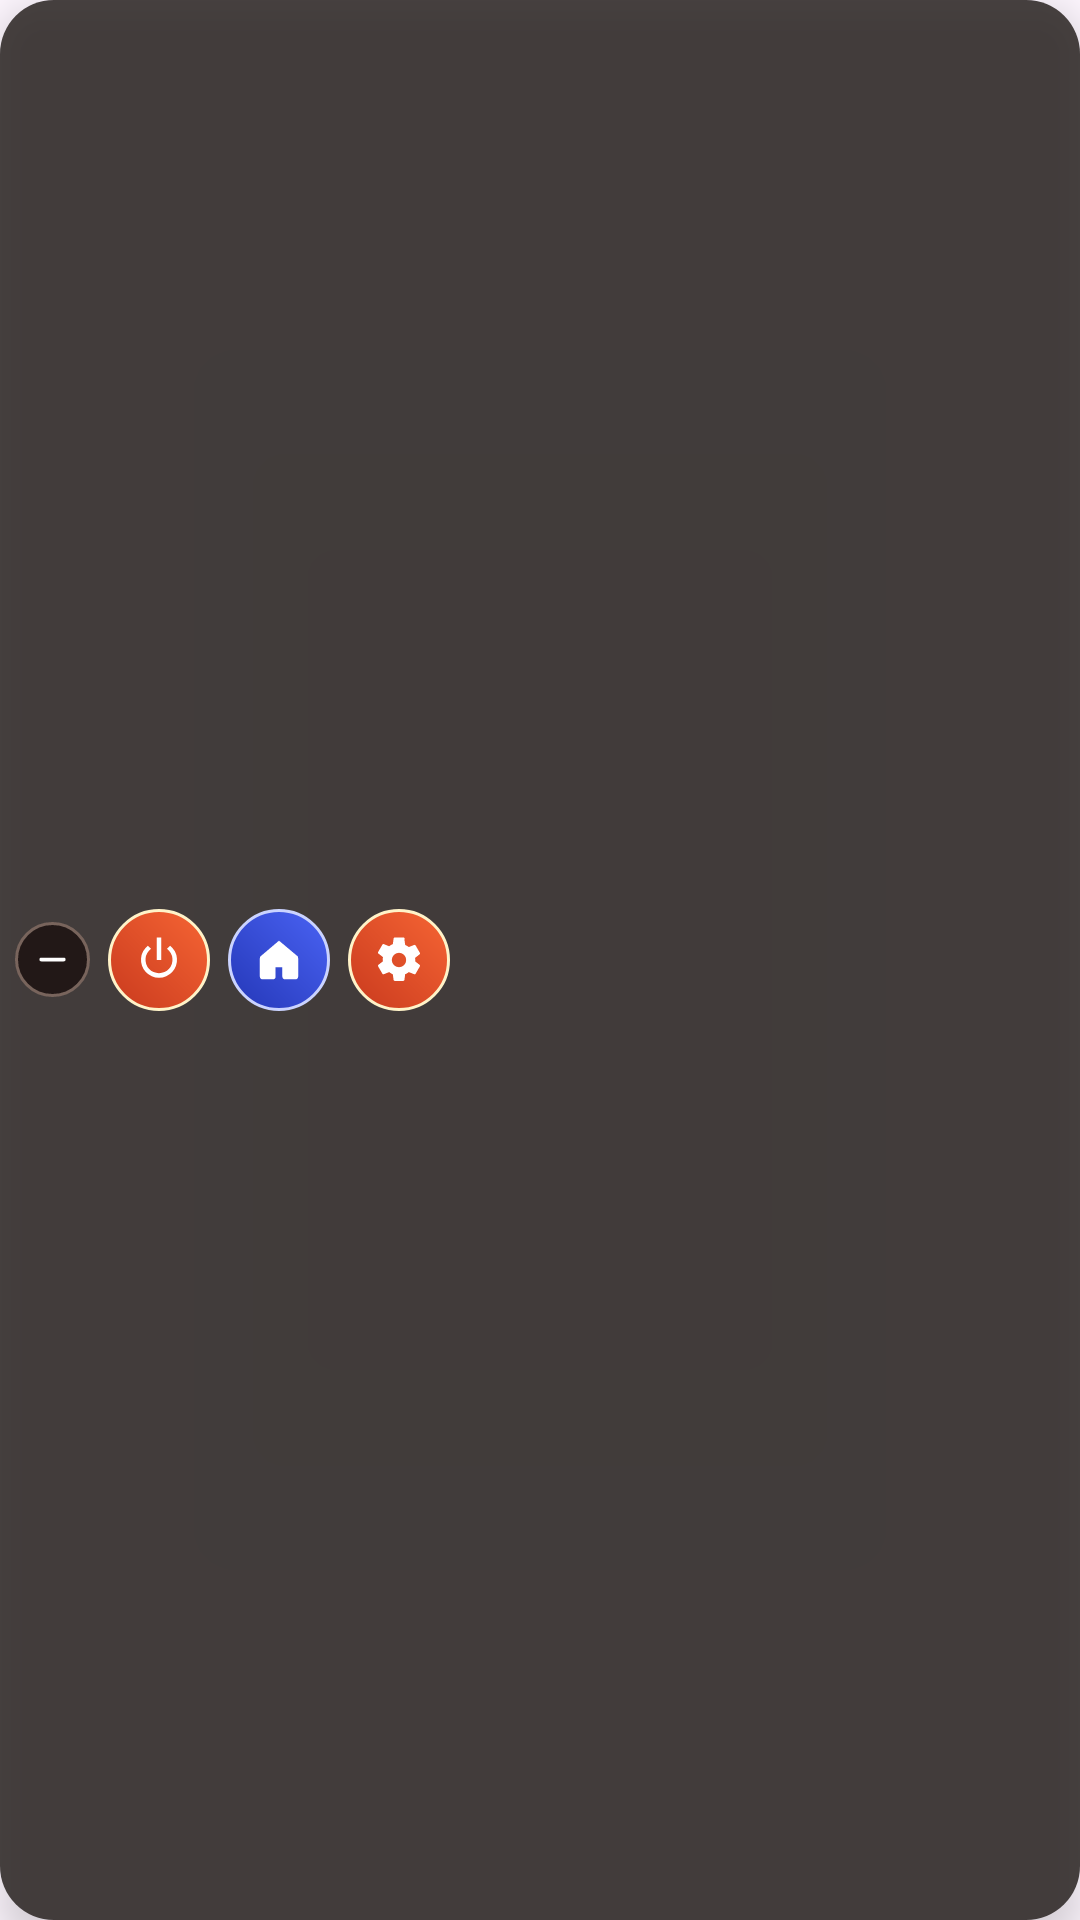

Point at icon controls on the screen. Image size 1080px×1920px, points as point (x, y).
Collapse toolbar: point (52, 959)
Go home: point (279, 960)
Toggle overlay: point (159, 960)
Tune: point (399, 960)
